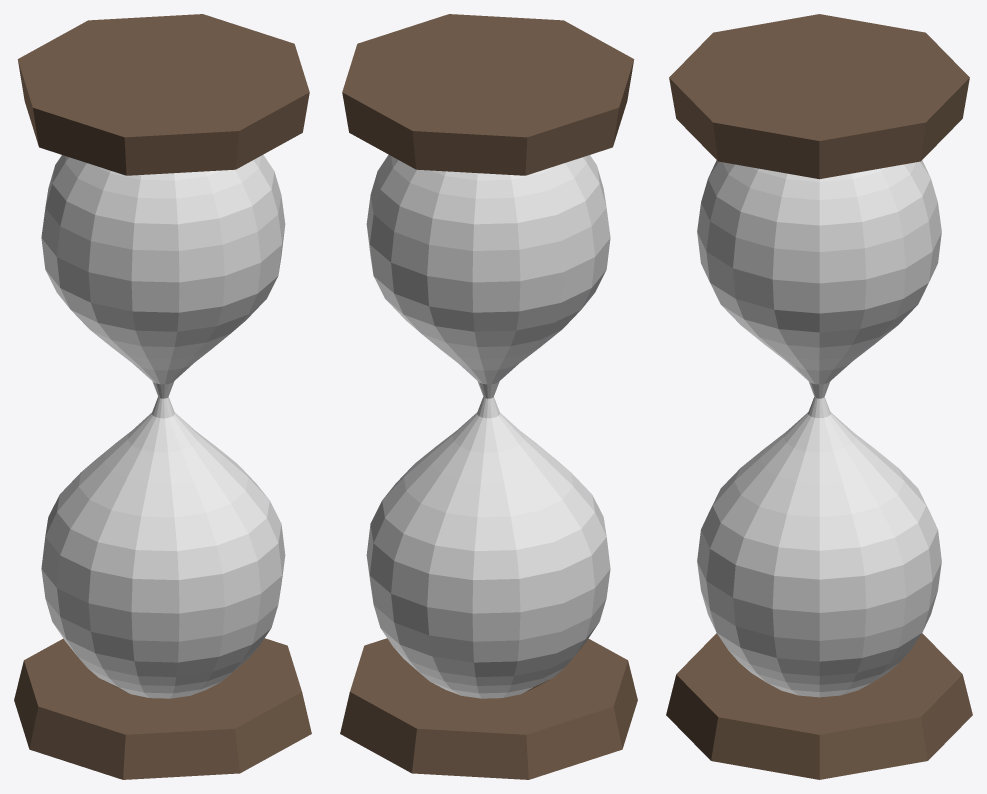
The model's file is HOURGLASS.fbx.
3 views of the same model, side by side, from view 1: azimuth 30°, elevation 25°; view 2: azimuth 150°, elevation 25°; view 3: azimuth 270°, elevation 25° (orthographic).
Visible parts, largest first — view 1: HOURGLASS; view 2: HOURGLASS; view 3: HOURGLASS.
Boxes of the visible parts, x1,y1,x2,y2 form: HOURGLASS: (14, 14, 311, 779); HOURGLASS: (340, 14, 637, 779); HOURGLASS: (666, 14, 972, 779).
Bounding box in the file's own units: 8.3 × 19.04 × 8.3.
